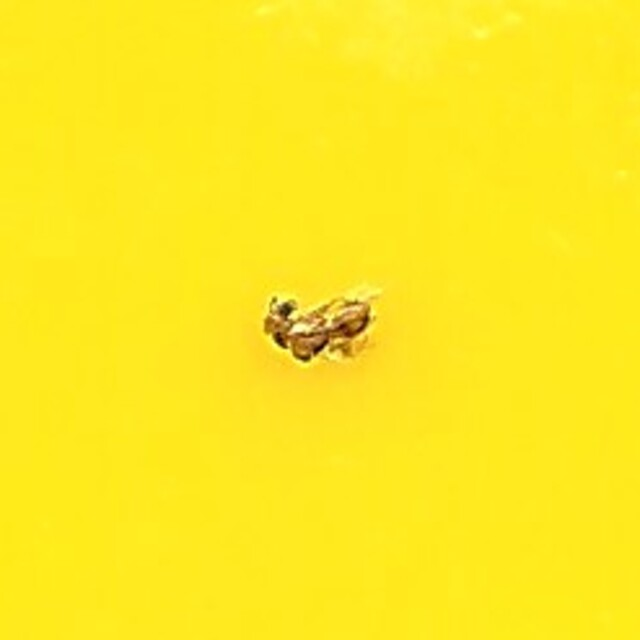Brachycera: (259, 275, 381, 365)
